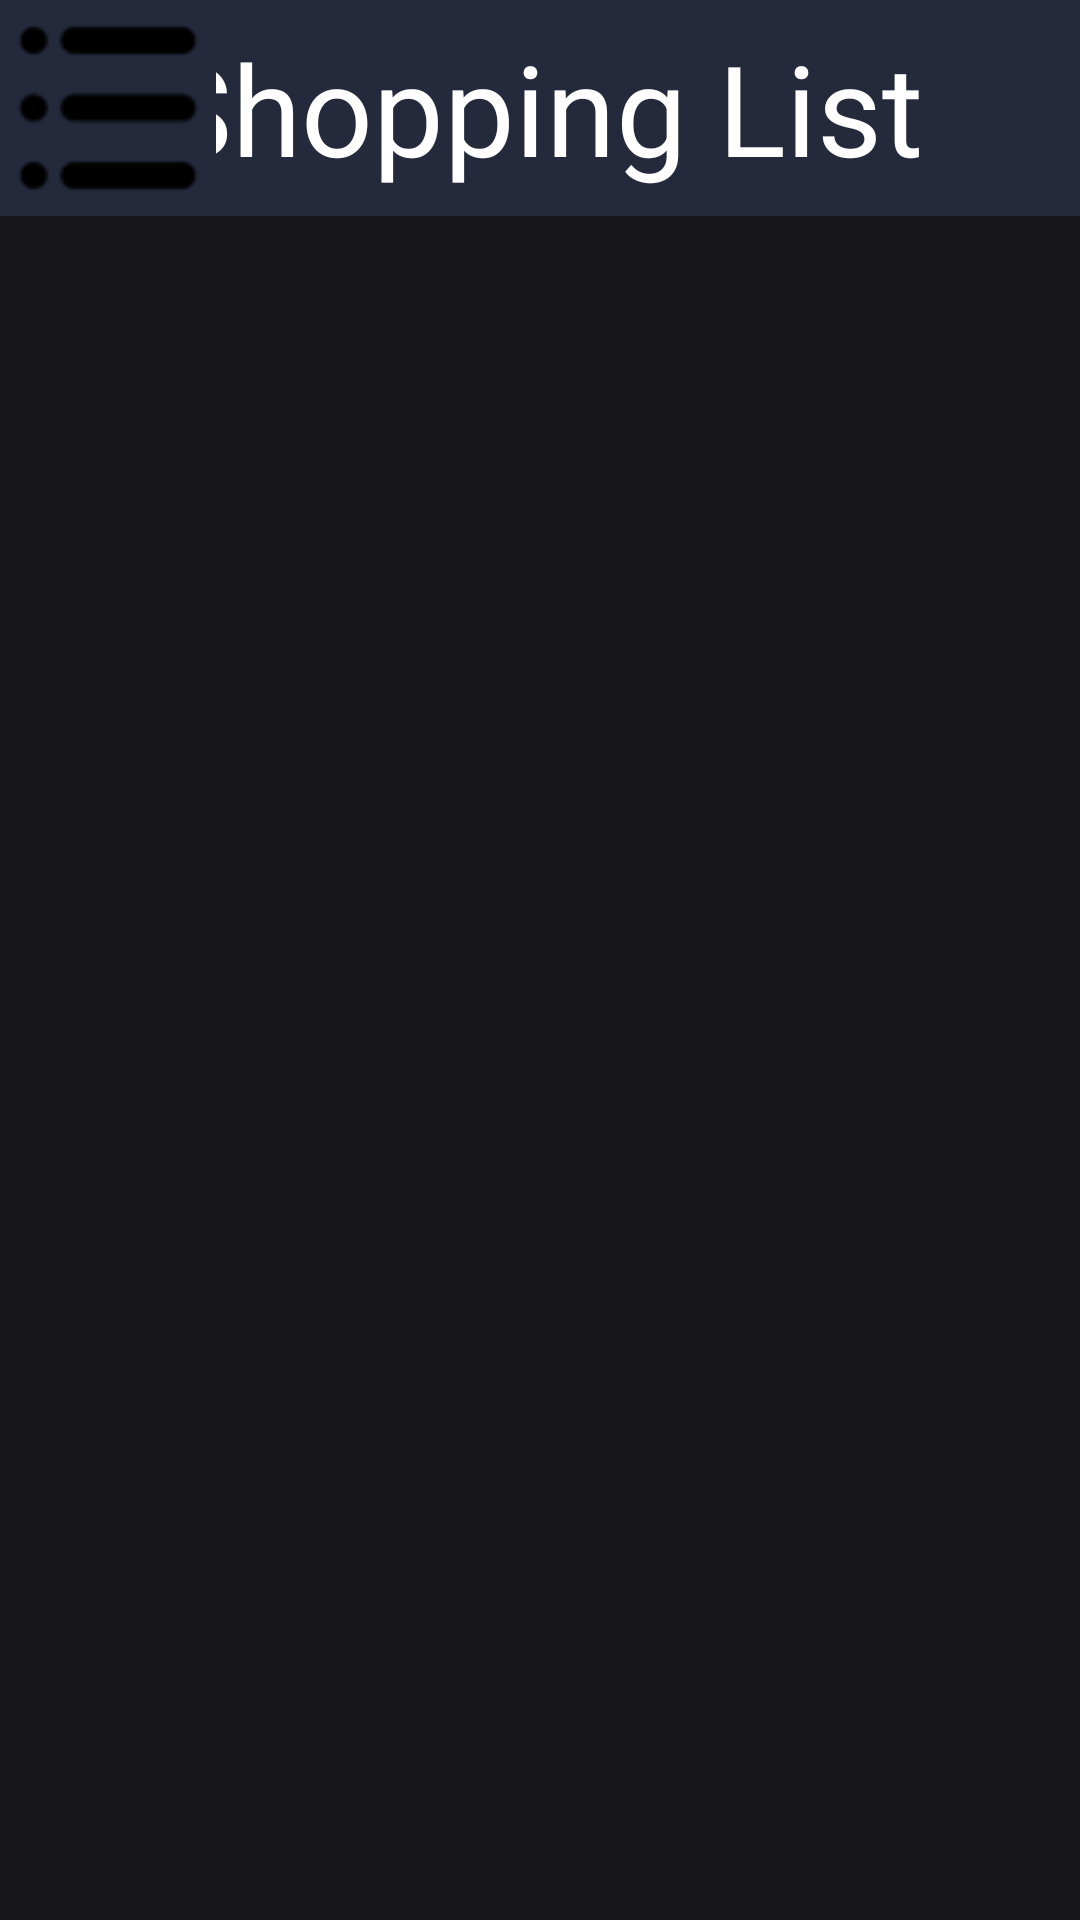

Named icons in this screenshot (1080px×1920px) and their bounding boxes, rect(x1, y1, x2, y2):
navlisticon: rect(20, 27, 196, 189)
